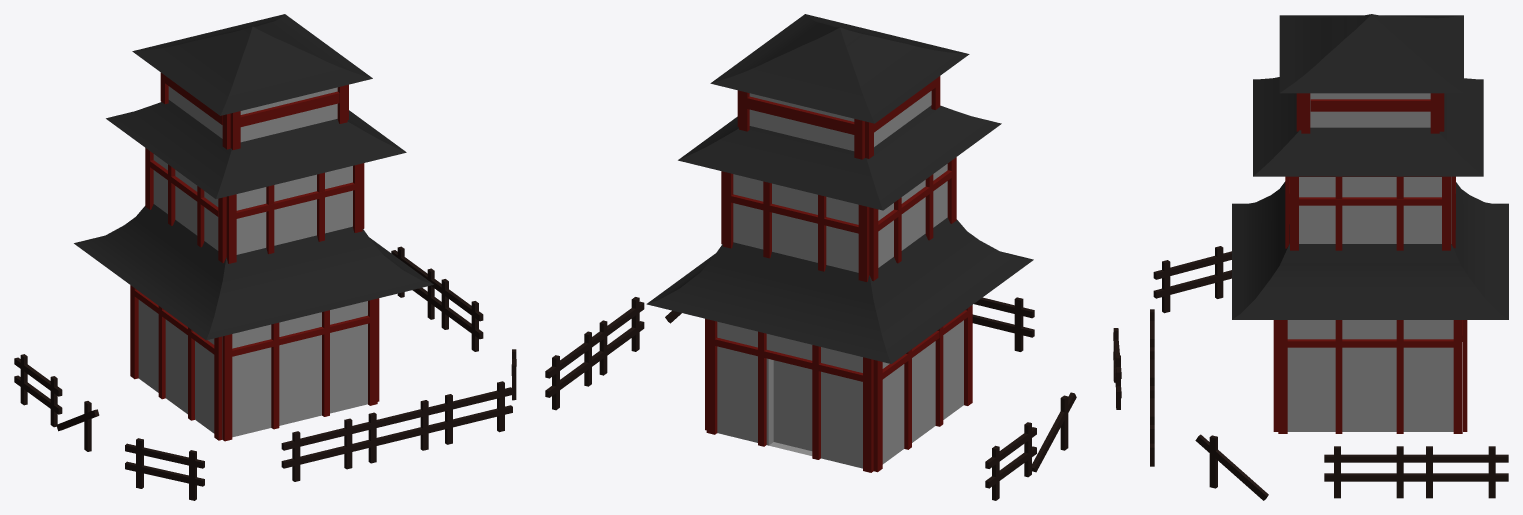
File: CAT_Base.FBX
3 renders of one model, left to right at view 1: azimuth 30°, elevation 25°; view 2: azimuth 150°, elevation 25°; view 3: azimuth 270°, elevation 25°, orthographic. The views are drawn at different scales.
Parts seen in each view (by area): view 1: Box001; view 2: Box001; view 3: Box001.
Boxes of the visible parts, x1,y1,x2,y2 form: Box001: [14, 14, 516, 500]; Box001: [545, 14, 1121, 500]; Box001: [1150, 14, 1508, 500].
Bounding box in the file's own units: 107 × 90.74 × 77.81.
